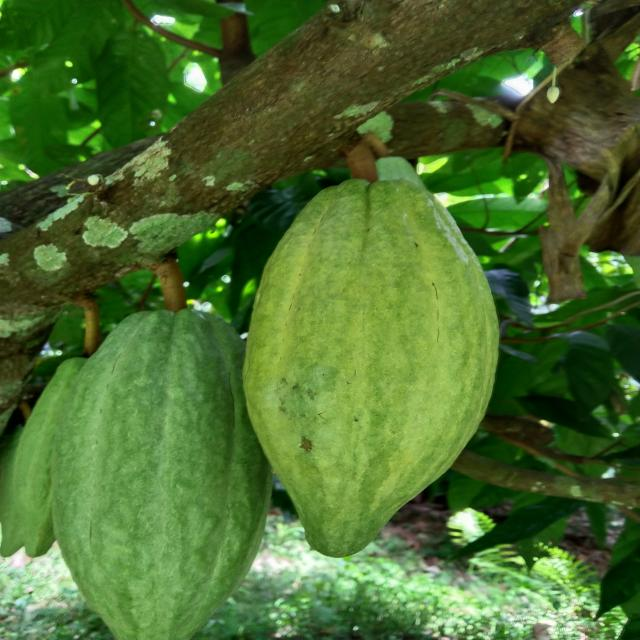Sana: (234, 179, 502, 555), (53, 307, 276, 640), (18, 358, 70, 562)
